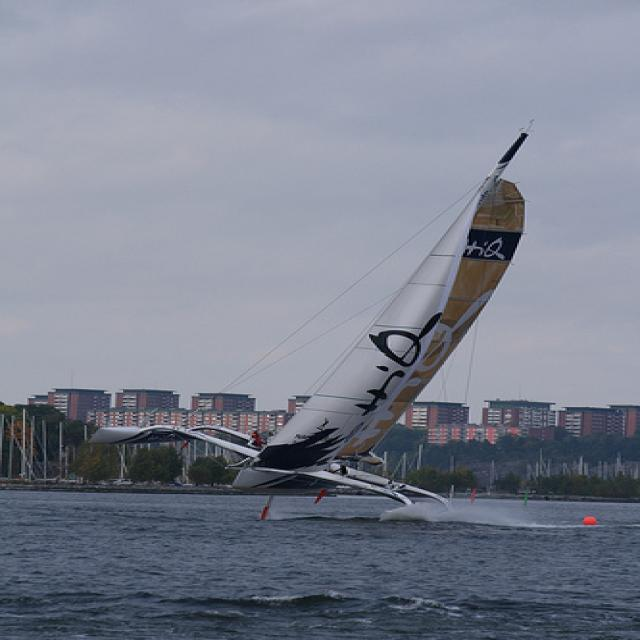Ship: (91, 129, 551, 534)
